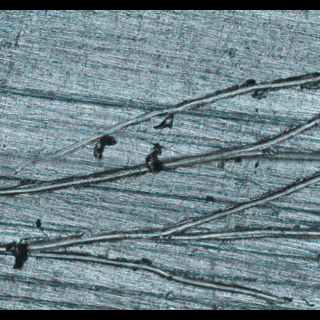d: (0, 59, 319, 307)
